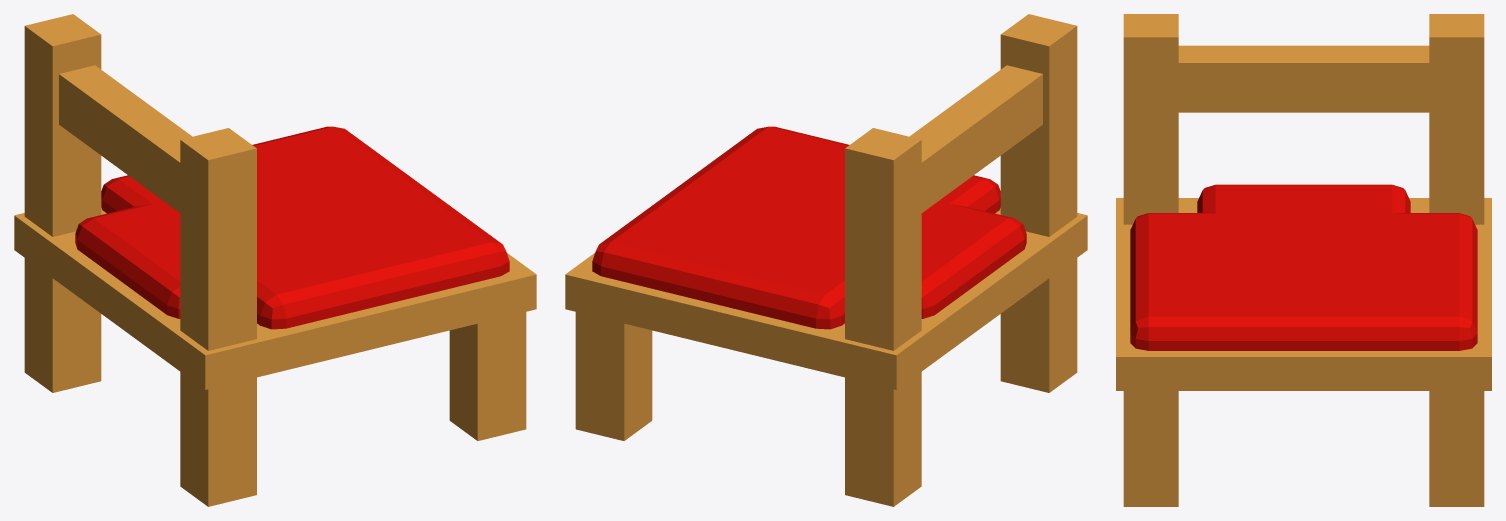
The model's file is bench.fbx.
3 views of the same model, side by side, from view 1: azimuth 30°, elevation 25°; view 2: azimuth 150°, elevation 25°; view 3: azimuth 270°, elevation 25° (orthographic).
Parts seen in each view (by area): view 1: Cube.017; view 2: Cube.017; view 3: Cube.017.
Boxes of the visible parts, x1,y1,x2,y2 form: Cube.017: (14,14,536,506); Cube.017: (565,14,1087,506); Cube.017: (1116,14,1491,506).
Bounding box in the file's own units: 50 × 50 × 50.
